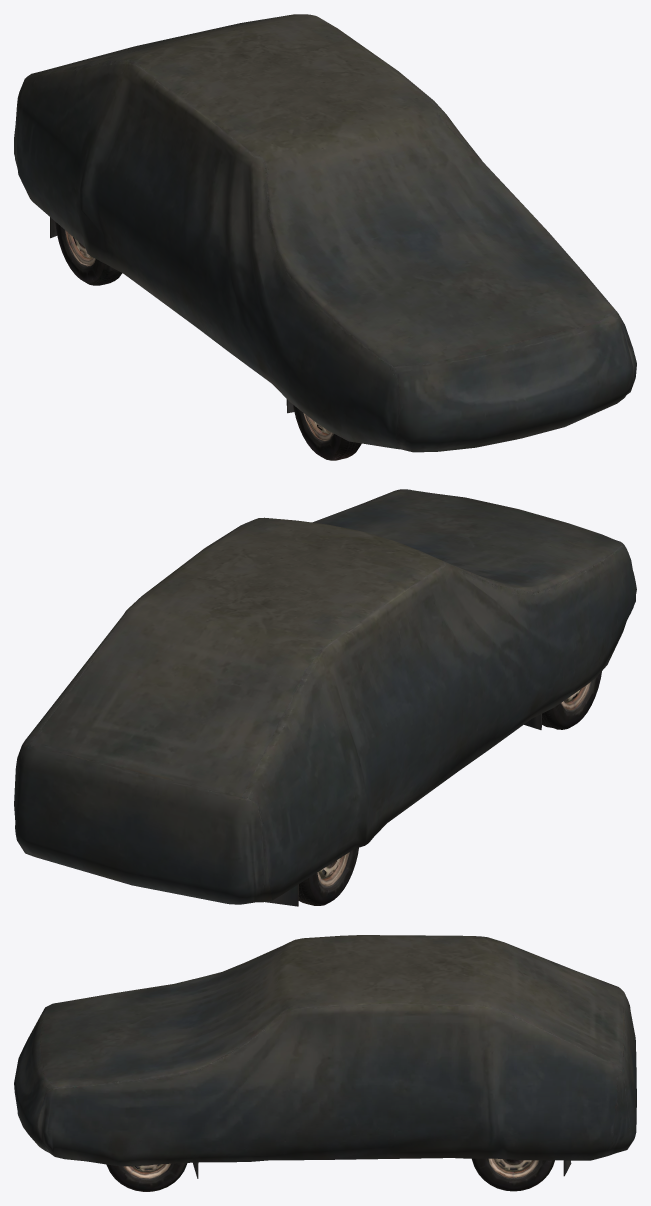
Rendered from covered-car.glb.
3 views of the same model, one above another, from view 1: azimuth 30°, elevation 25°; view 2: azimuth 150°, elevation 25°; view 3: azimuth 270°, elevation 25° (orthographic). The views are drawn at different scales.
Visible parts, largest first — view 1: covered_car_wheel_01; view 2: covered_car_wheel_01; view 3: covered_car_wheel_01.
Part boxes in pixels (x1,y1,x2,y2): covered_car_wheel_01: (14,14,636,460); covered_car_wheel_01: (14,489,636,906); covered_car_wheel_01: (14,935,636,1191).
Bounding box in the file's own units: 1.79 × 1.41 × 4.38.
1 material, 1 textured.
